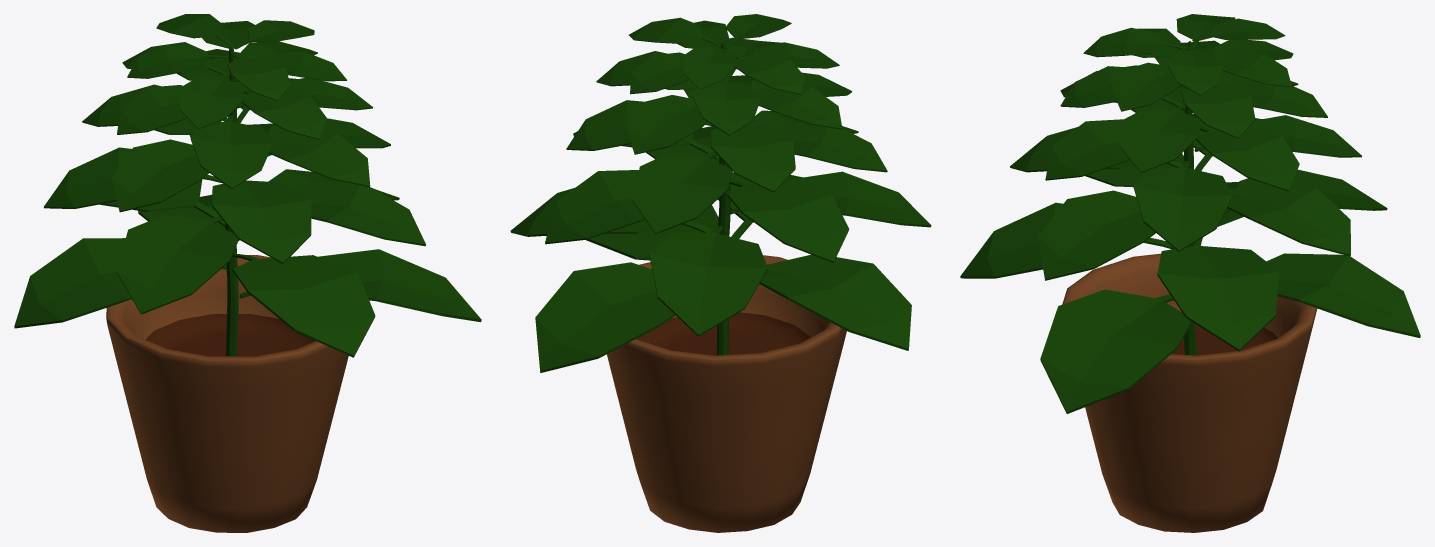
File: Plant_2.fbx
The picture shows the model from 3 angles, left to right: view 1: azimuth 30°, elevation 25°; view 2: azimuth 150°, elevation 25°; view 3: azimuth 270°, elevation 25°; orthographic projection.
Visible parts, largest first — view 1: Plant_2; view 2: Plant_2; view 3: Plant_2.
Boxes of the visible parts, <box> form: Plant_2: <box>14,14,481,532</box>; Plant_2: <box>510,14,931,532</box>; Plant_2: <box>960,14,1420,532</box>.
Size of the model in its own units: 34.78 by 39.8 by 35.28.
